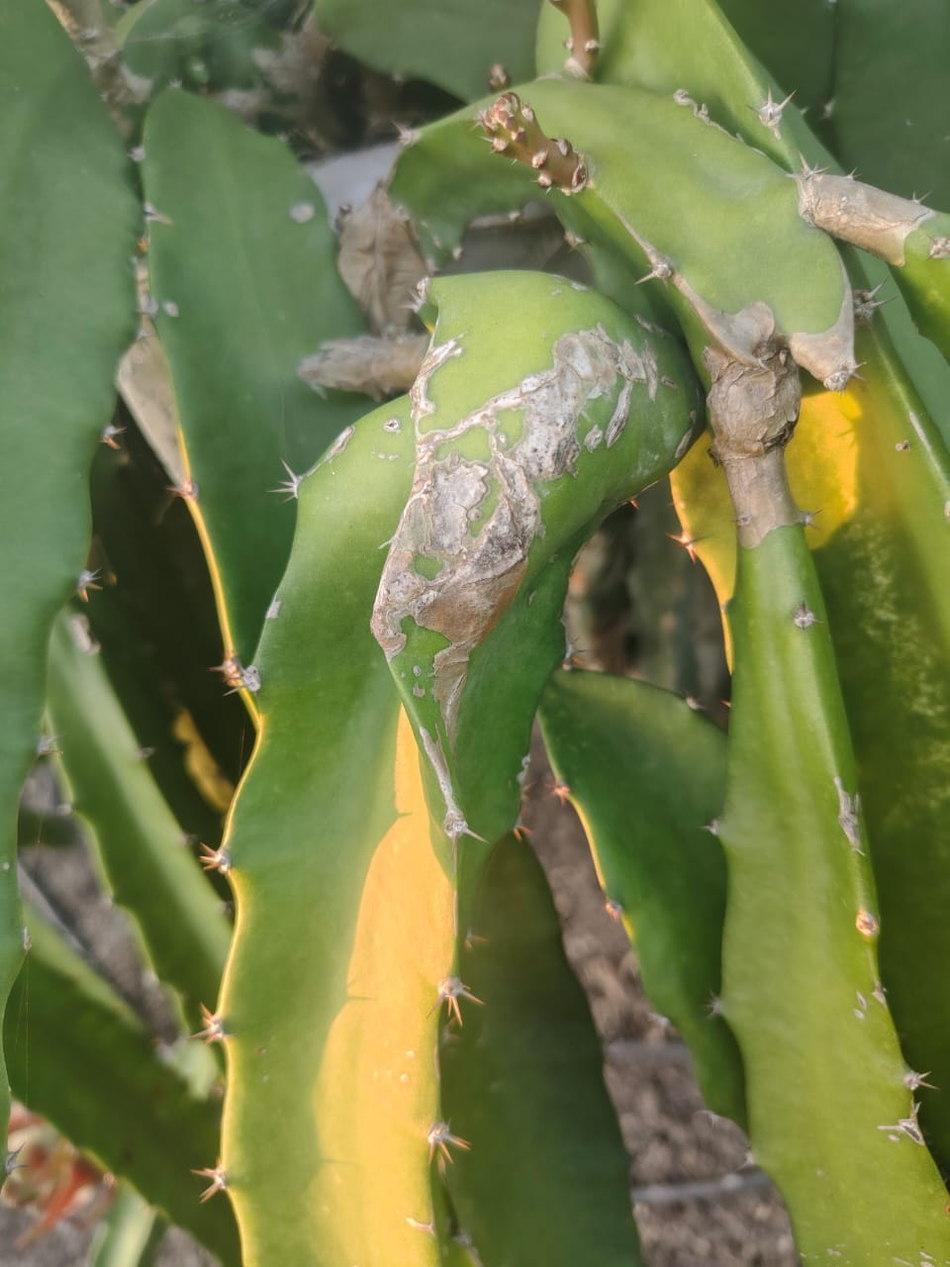stemcanker: (360, 266, 701, 900), (778, 164, 950, 401), (687, 298, 815, 559), (290, 198, 437, 410)
